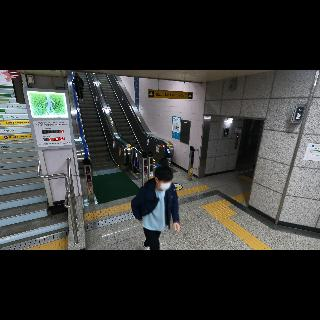normal: (130, 164, 182, 250)
